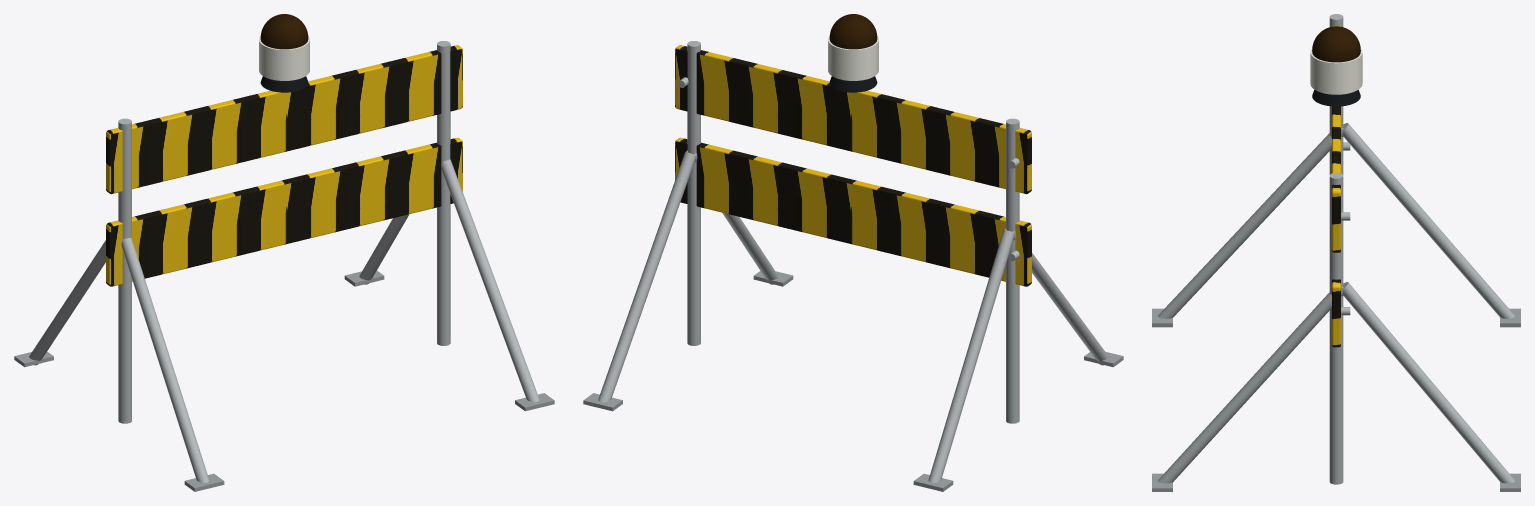
The picture shows the model from 3 angles, left to right: view 1: azimuth 30°, elevation 25°; view 2: azimuth 150°, elevation 25°; view 3: azimuth 270°, elevation 25°; orthographic projection. The views are drawn at different scales.
Parts seen in each view (by area): view 1: jp-const-barricade, lamp_lamp; view 2: jp-const-barricade, lamp_lamp; view 3: jp-const-barricade, lamp_lamp.
Part boxes in pixels (<box>): jp-const-barricade: <box>14,36,554,491</box>; lamp_lamp: <box>260,14,308,49</box>; jp-const-barricade: <box>583,36,1123,491</box>; lamp_lamp: <box>829,14,877,49</box>; jp-const-barricade: <box>1152,14,1520,491</box>; lamp_lamp: <box>1312,26,1360,62</box>.
Bounding box in the file's own units: 1.22 × 1.2 × 1.06.
Materials: 6 (1 with a texture image).
